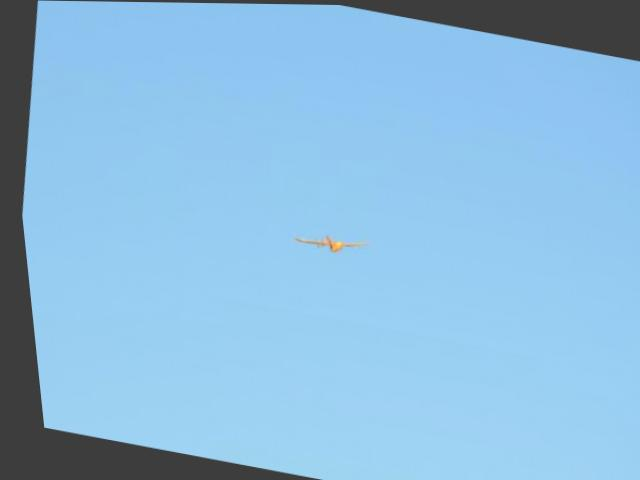iha: (289, 228, 362, 258)
